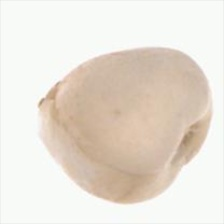L3: (36, 76, 63, 118)
L4: (37, 47, 213, 205)
